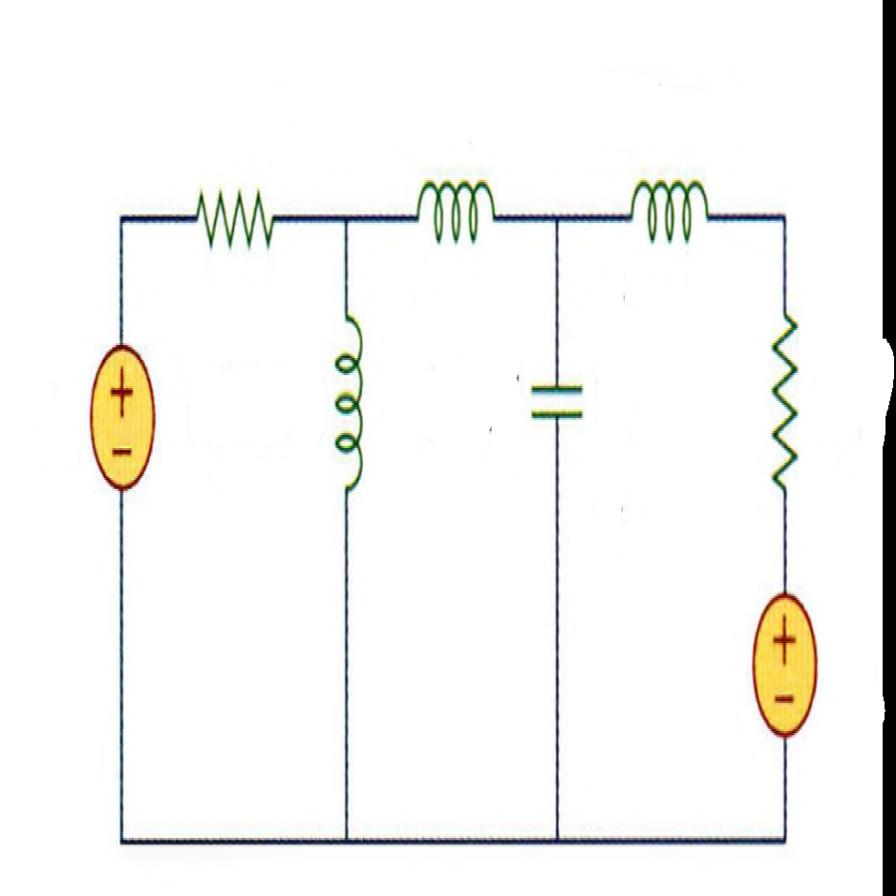C2: (505, 329, 598, 475)
L1: (406, 140, 509, 268), (622, 149, 720, 277)
L2: (320, 286, 374, 520)
R1: (190, 142, 283, 273)
R2: (758, 289, 814, 524)
V1: (742, 574, 829, 758), (83, 317, 163, 505)
